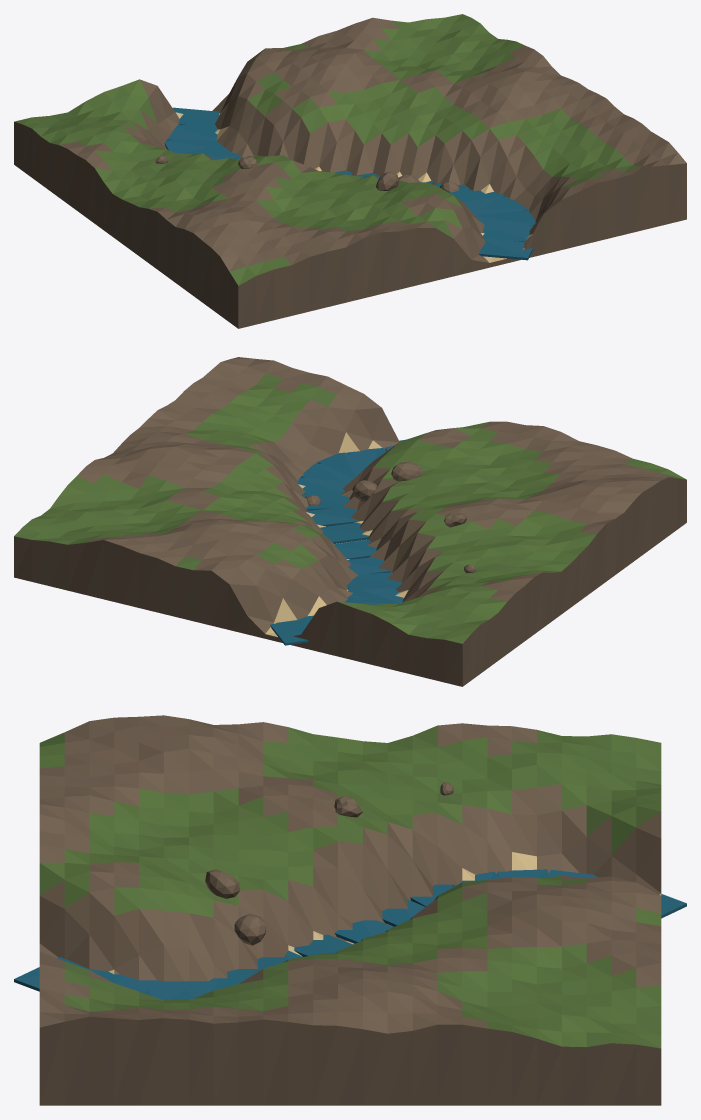
The model's file is river_ravine_crossing.glb.
The picture shows the model from 3 angles, top to bottom: view 1: azimuth 30°, elevation 25°; view 2: azimuth 150°, elevation 25°; view 3: azimuth 270°, elevation 25°; orthographic projection. The views are drawn at different scales.
Parts seen in each view (by area): view 1: Terrain_secondary, Terrain_primary, Water, Rocks; view 2: Terrain_secondary, Terrain_primary, Water, Rocks, Terrain_sand; view 3: Terrain_secondary, Terrain_primary, Water, Rocks, Terrain_sand.
Boxes of the visible parts, x1=… form: Terrain_secondary: x1=14, y1=17, x2=686, y2=328; Terrain_primary: x1=14, y1=14, x2=641, y2=285; Water: x1=164, y1=107, x2=535, y2=260; Rocks: x1=155, y1=155, x2=459, y2=192; Terrain_secondary: x1=14, y1=357, x2=686, y2=686; Terrain_primary: x1=14, y1=373, x2=686, y2=643; Water: x1=270, y1=439, x2=405, y2=645; Rocks: x1=305, y1=461, x2=476, y2=572; Terrain_sand: x1=265, y1=432, x2=408, y2=636; Terrain_secondary: x1=39, y1=715, x2=661, y2=1105; Terrain_primary: x1=39, y1=725, x2=661, y2=1048; Water: x1=14, y1=869, x2=686, y2=1000; Rocks: x1=205, y1=782, x2=453, y2=945; Terrain_sand: x1=109, y1=852, x2=661, y2=973.
Size of the model in its own units: 30 by 4.23 by 28.15.
